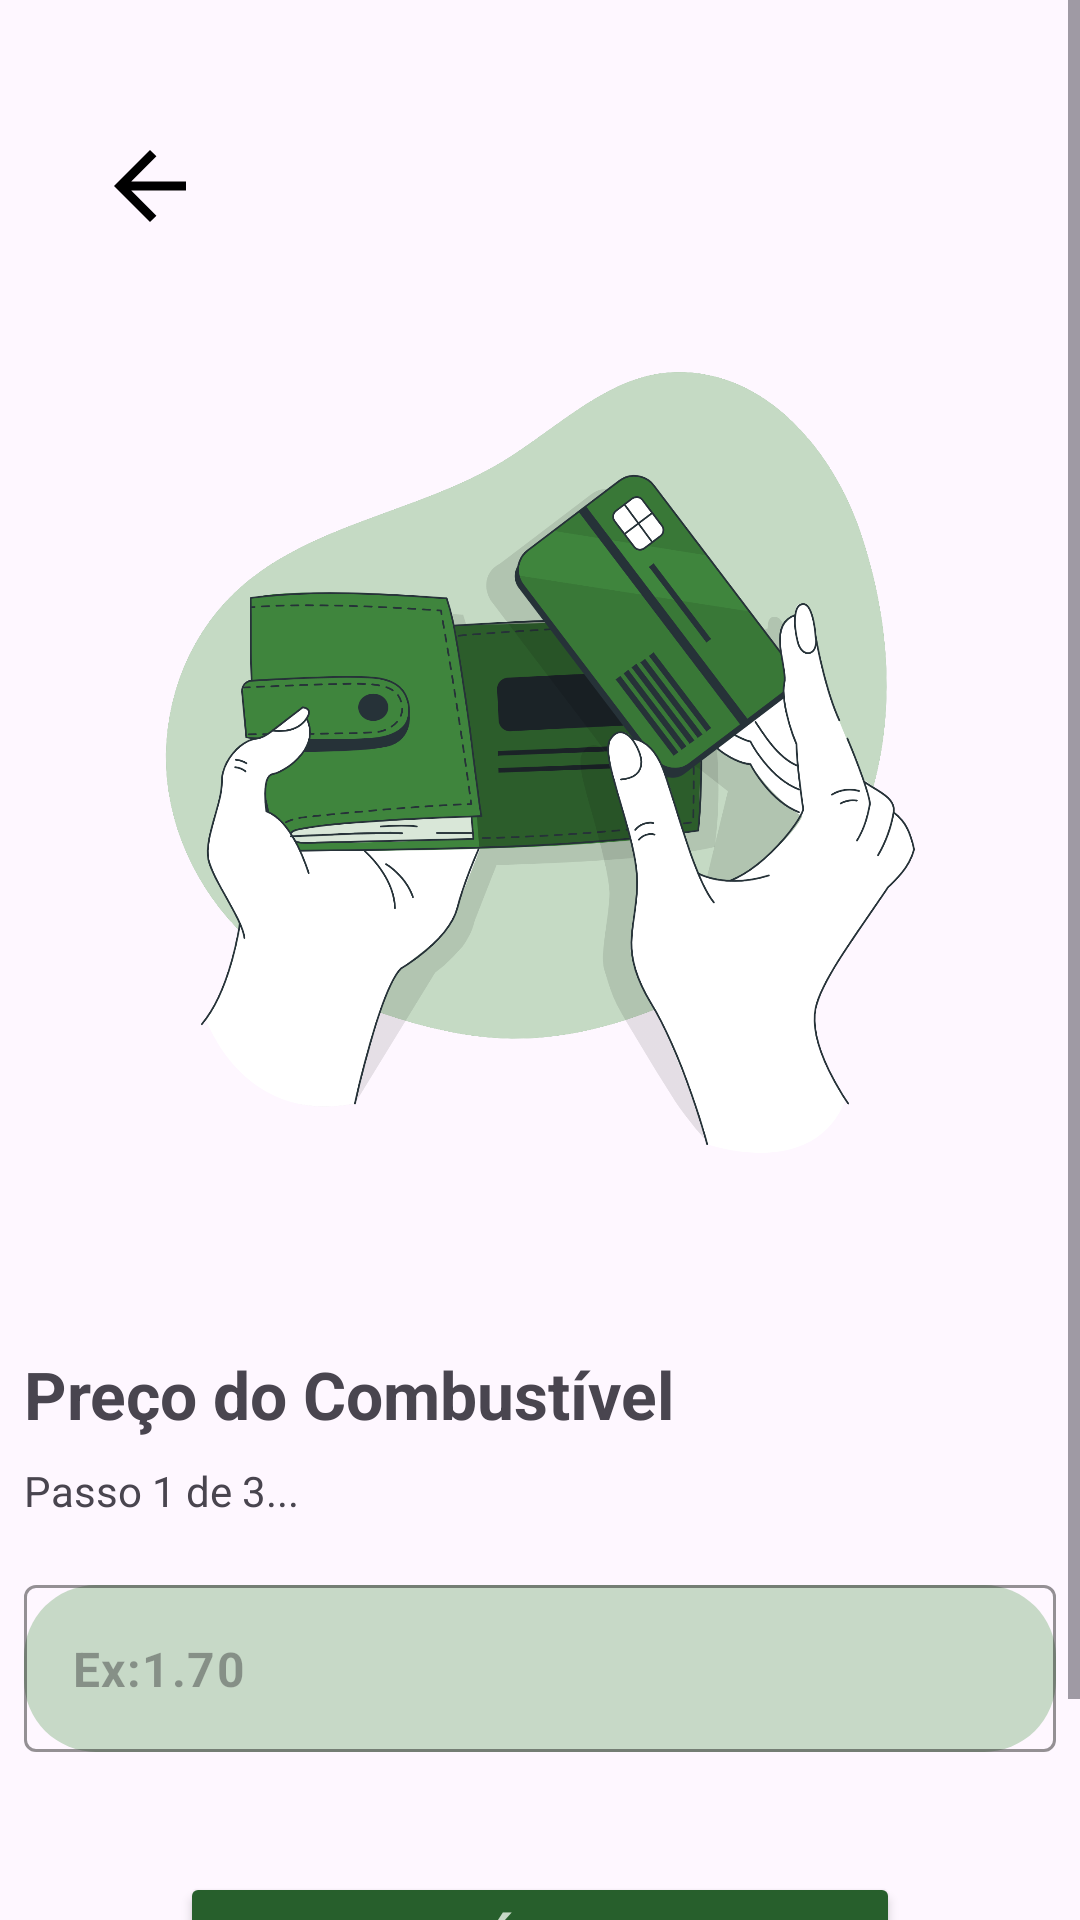

Named icons in this screenshot (1080×1920) and their centers, point (x, y):
Voltar: point (150, 186)
